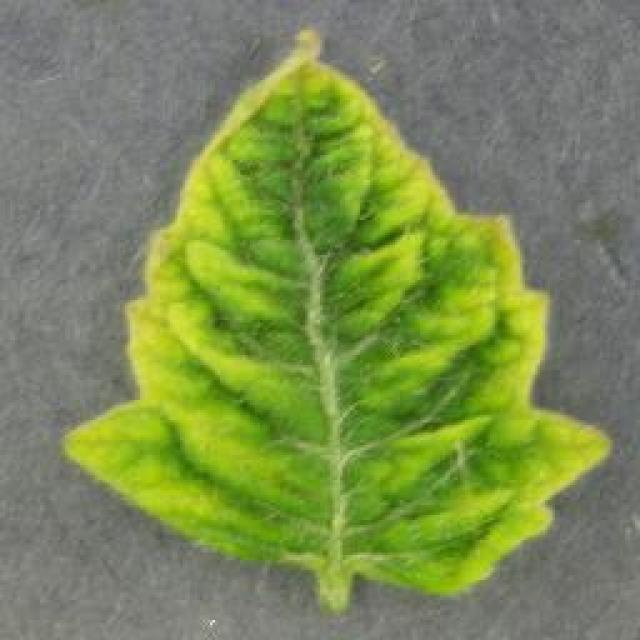Tomato yellow virus leaf: (66, 29, 616, 598)
